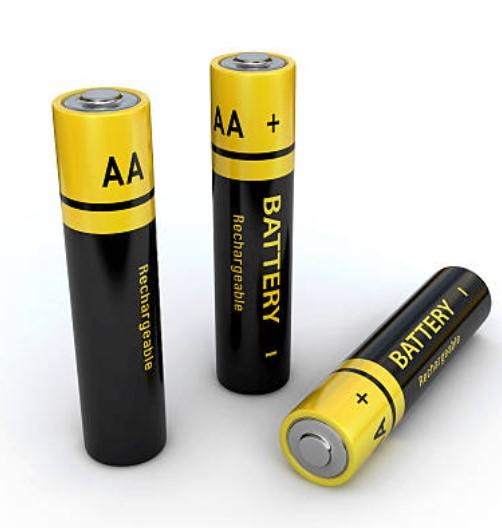Battery: (281, 267, 492, 486), (52, 87, 166, 466), (211, 52, 296, 395)
